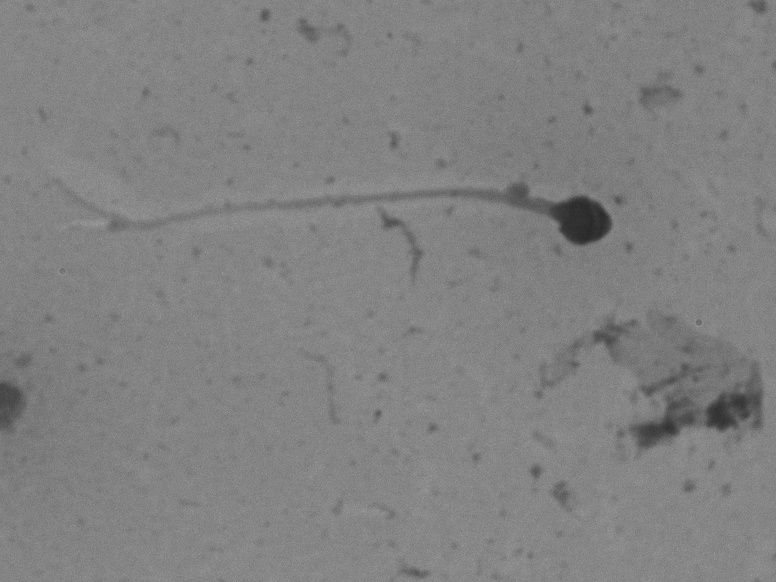Abnormal: (48, 144, 653, 286)
